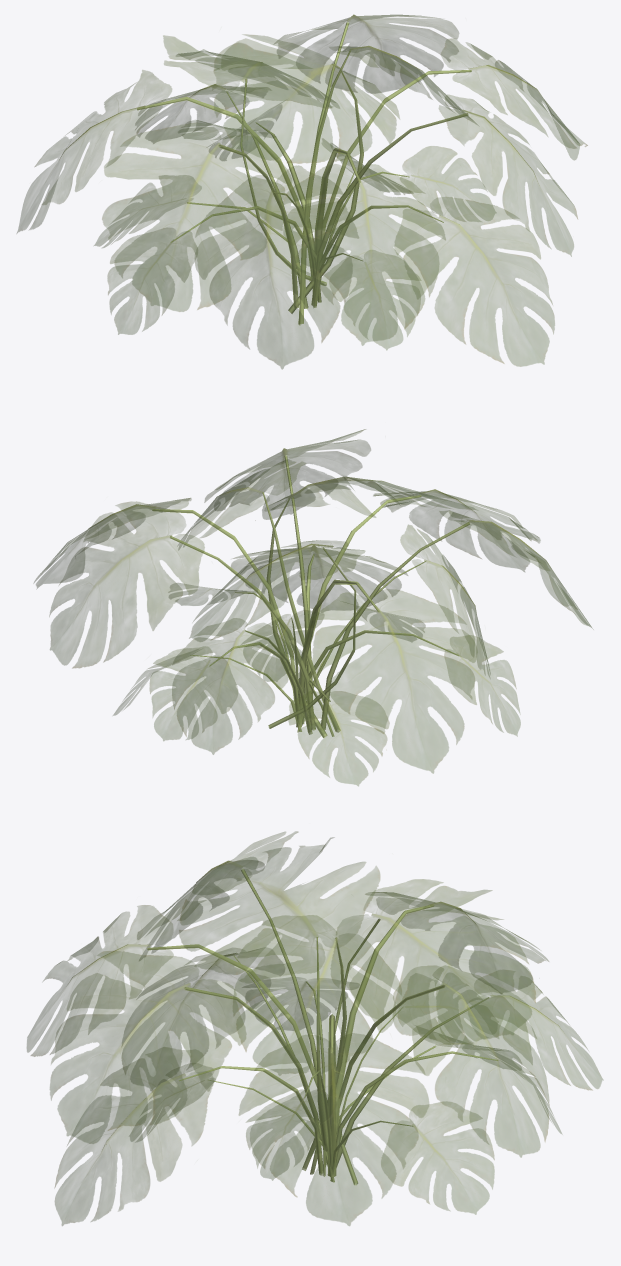
The model's file is Tropical_Plant.glb.
3 renders of one model, top to bottom at view 1: azimuth 30°, elevation 25°; view 2: azimuth 150°, elevation 25°; view 3: azimuth 270°, elevation 25°, orthographic. The views are drawn at different scales.
Visible parts, largest first — view 1: leaves_tropical_plant_0, trunk_tropical_plant_0; view 2: leaves_tropical_plant_0, trunk_tropical_plant_0; view 3: leaves_tropical_plant_0, trunk_tropical_plant_0.
Boxes of the visible parts, bbox=[...] form: leaves_tropical_plant_0: bbox=[17, 14, 587, 369]; trunk_tropical_plant_0: bbox=[137, 22, 471, 325]; leaves_tropical_plant_0: bbox=[34, 429, 593, 786]; trunk_tropical_plant_0: bbox=[152, 455, 469, 738]; leaves_tropical_plant_0: bbox=[27, 831, 603, 1225]; trunk_tropical_plant_0: bbox=[147, 869, 498, 1184].
Size of the model in its own units: 193 by 99.01 by 170.
1 material, 1 textured.
